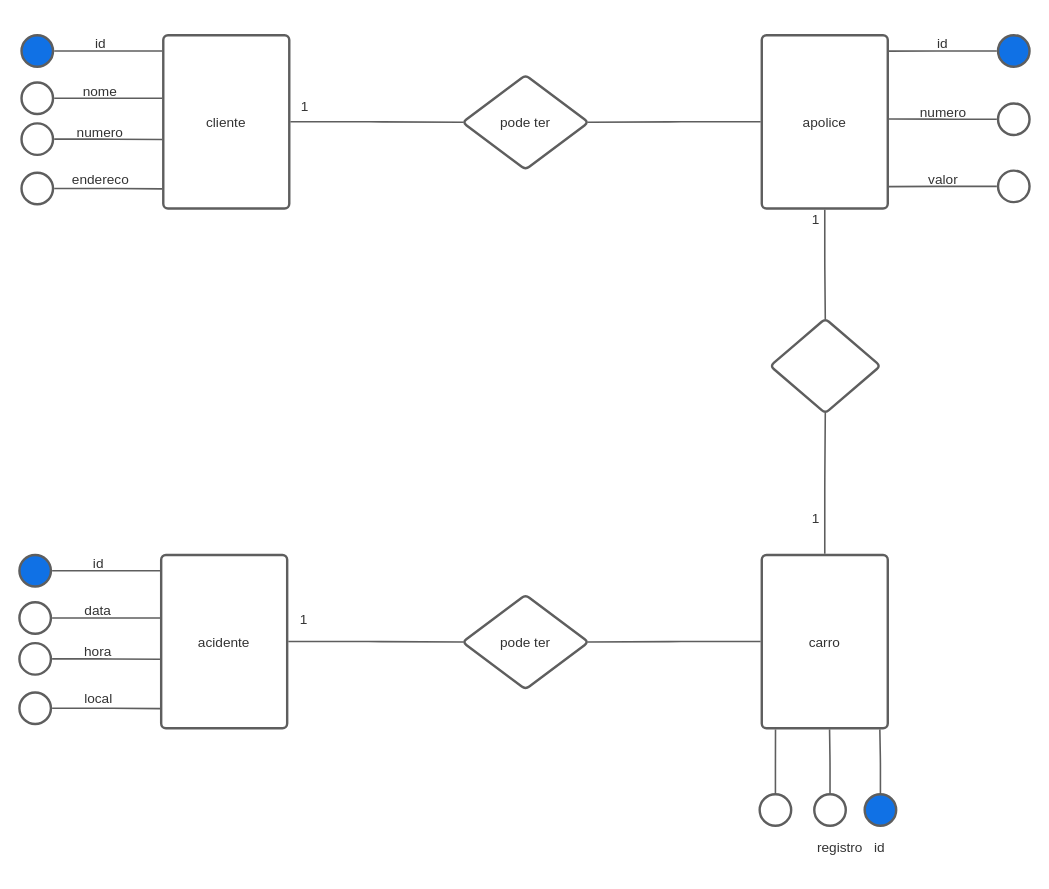
Some shapes in this 1049 by 889 pixel diagram are drawn without their labels. The shapes that lost their labels are listed below. From the top down, each one's centre as x and y in pixels, then its label:
At (x=741, y=109): "1,N".
At (x=824, y=365): "Cobre".
At (x=775, y=846): "marca".
